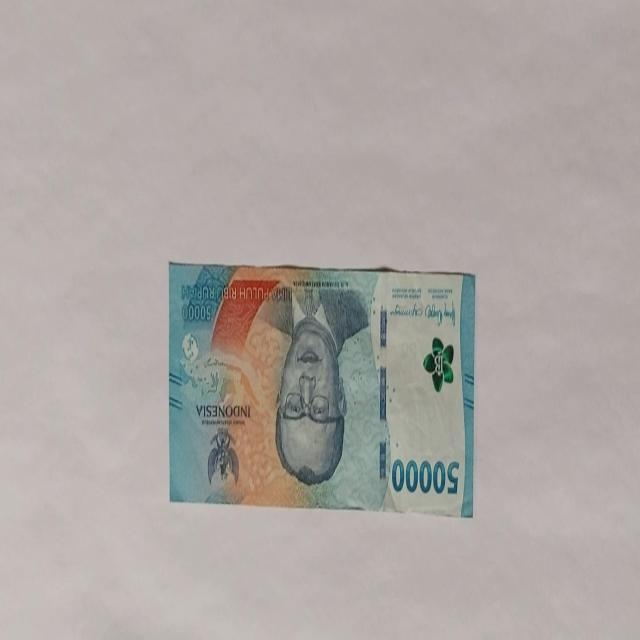lima puluh ribu rupiah: (168, 260, 475, 516)
